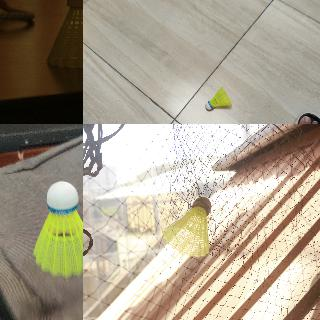shuttlecock: (32, 181, 82, 278), (162, 197, 210, 257), (46, 0, 82, 69), (205, 88, 231, 110)
